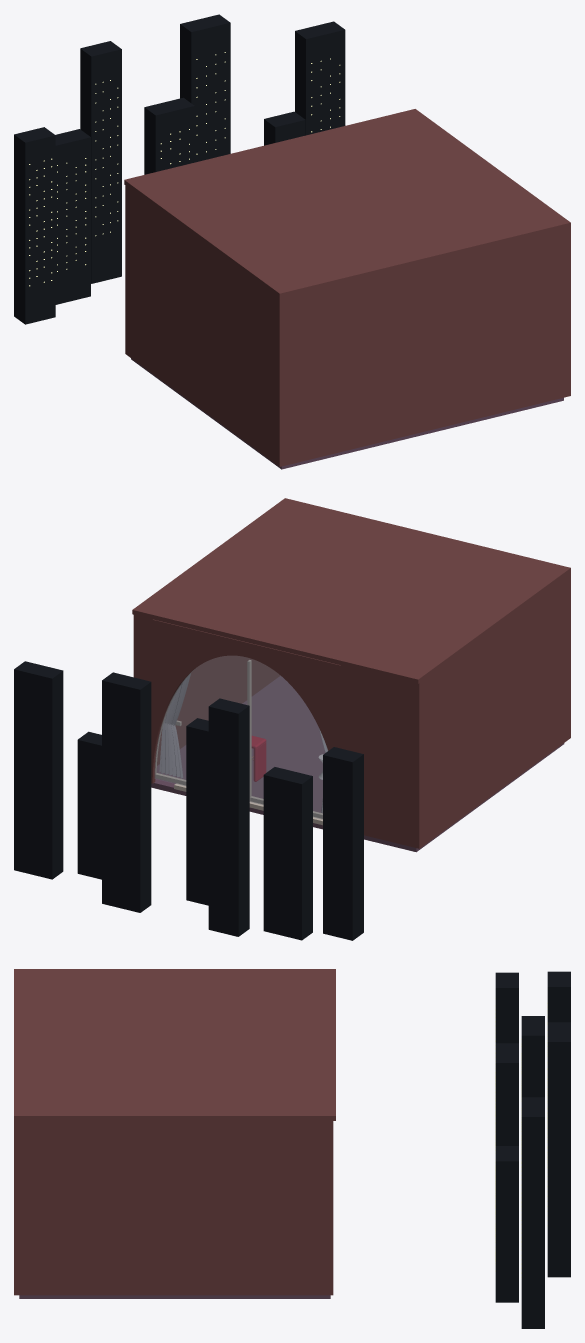
3 renders of one model, top to bottom at view 1: azimuth 30°, elevation 25°; view 2: azimuth 150°, elevation 25°; view 3: azimuth 270°, elevation 25°, orthographic. The views are drawn at different scales.
Parts seen in each view (by area): view 1: WALL_front_inferred, CEILING_inferred, WALL_left_inferred, CONTEXT_city_mass_2, CONTEXT_city_mass_0, CONTEXT_city_mass_4, CONTEXT_city_mass_1, CONTEXT_city_mass_6, CONTEXT_city_mass_3, FLOOR_bounded, CONTEXT_city_mass_5; view 2: CEILING_inferred, WALL_left_inferred, WINDOW_glazing, CONTEXT_city_mass_4, WALL_rear_left, CONTEXT_city_mass_6, CONTEXT_city_mass_2, CONTEXT_city_mass_1, CONTEXT_city_mass_0, FLOOR_bounded, CONTEXT_city_mass_3, WALL_right_inferred (+3 smaller); view 3: WALL_right_inferred, CEILING_inferred, CONTEXT_city_mass_4, CONTEXT_city_mass_6, CONTEXT_city_mass_5, CONTEXT_city_mass_3, CONTEXT_city_mass_1, CONTEXT_city_mass_0, FLOOR_bounded, CONTEXT_city_mass_2, WALL_front_inferred, WALL_rear_right.
Part boxes in pixels (x1,y1,x2,y2): WALL_front_inferred: (277,227,570,466); CEILING_inferred: (124,109,570,297); WALL_left_inferred: (126,187,277,464); CONTEXT_city_mass_2: (80,41,121,283); CONTEXT_city_mass_0: (14,127,55,324); CONTEXT_city_mass_4: (180,14,230,162); CONTEXT_city_mass_1: (55,129,90,304); CONTEXT_city_mass_6: (295,21,345,135); CONTEXT_city_mass_3: (144,97,194,174); FLOOR_bounded: (131,358,563,469); CONTEXT_city_mass_5: (264,111,305,145); CEILING_inferred: (132,498,570,683); WALL_left_inferred: (421,574,568,846); WINDOW_glazing: (154,656,327,819); CONTEXT_city_mass_4: (102,672,151,912); WALL_rear_left: (340,665,421,848); CONTEXT_city_mass_6: (14,661,63,879); CONTEXT_city_mass_2: (208,698,249,936); CONTEXT_city_mass_1: (263,767,312,940); CONTEXT_city_mass_0: (323,747,363,940); FLOOR_bounded: (151,676,564,852); CONTEXT_city_mass_3: (186,718,208,905); WALL_right_inferred: (157,655,280,765); WALL_right_inferred: (19,1121,330,1295); CEILING_inferred: (14,969,335,1120); CONTEXT_city_mass_4: (547,1022,570,1277); CONTEXT_city_mass_6: (521,1097,544,1328); CONTEXT_city_mass_5: (495,1146,518,1302); CONTEXT_city_mass_3: (495,1043,518,1145); CONTEXT_city_mass_1: (521,1016,544,1097); CONTEXT_city_mass_0: (495,972,518,1043); FLOOR_bounded: (19,1295,330,1298); CONTEXT_city_mass_2: (547,971,570,1022); WALL_front_inferred: (14,1121,19,1295); WALL_rear_right: (328,1121,333,1295).
Bounding box in the file's own units: 15.3 × 10 × 21.45.
